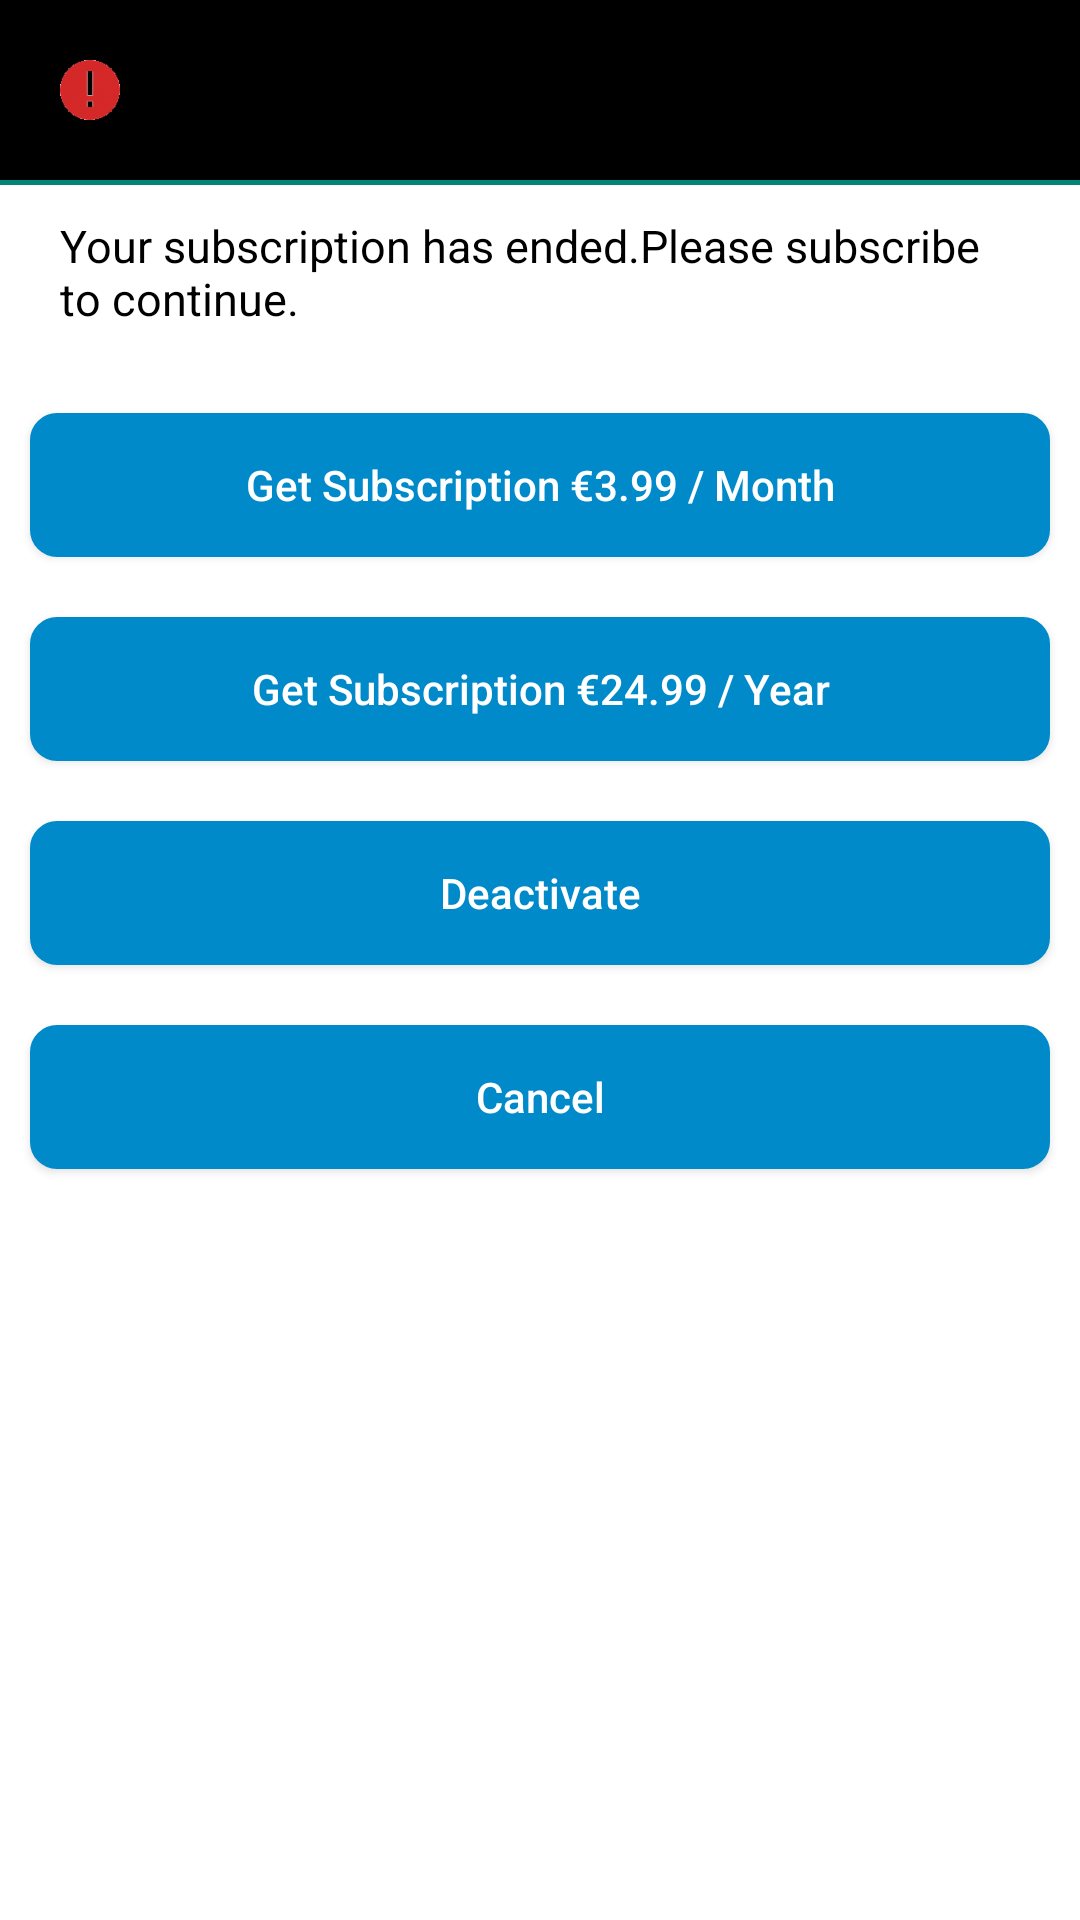

Icon bounding boxes for this 1080x1920 phone screenshot, format bbox=(x1, y1, x2, y2):
error: bbox=(60, 60, 120, 120)
